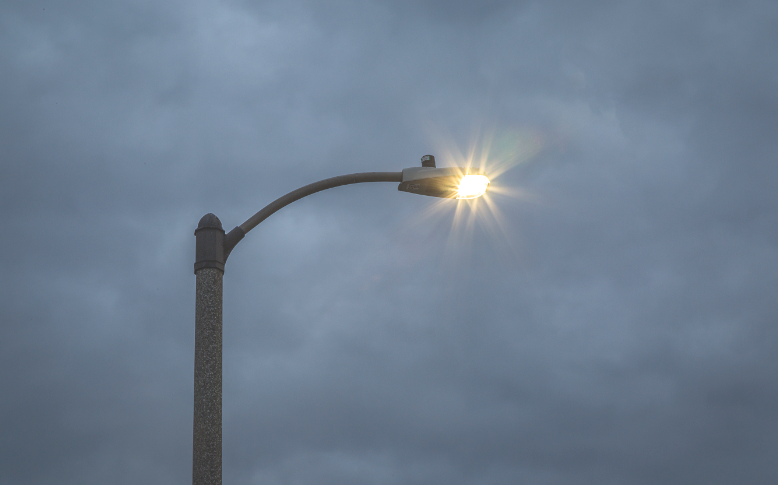Lamp: (147, 148, 531, 485)
